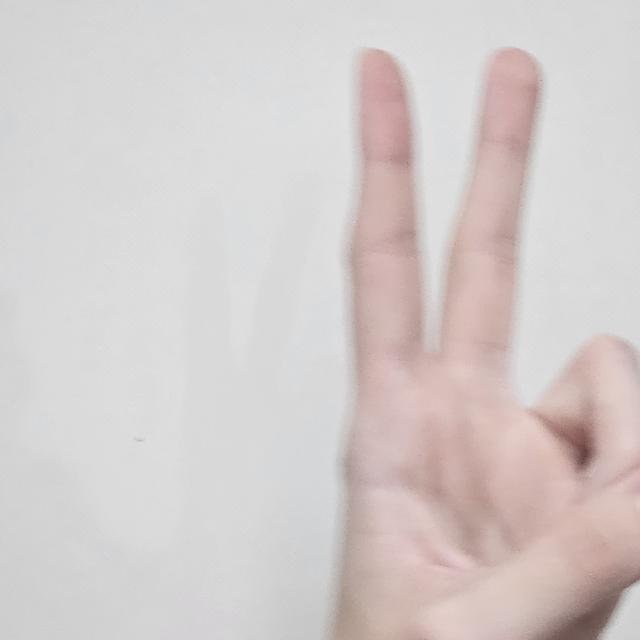Triangulo: (333, 49, 640, 640)
